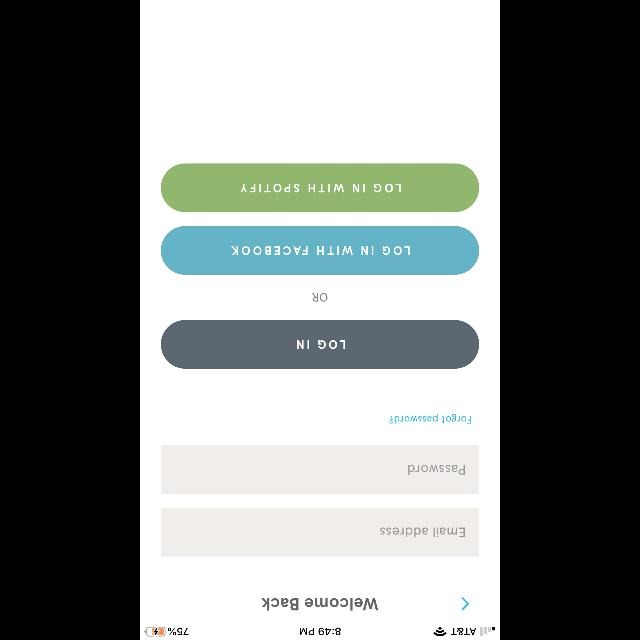icon: (462, 598, 468, 610)
input: (161, 446, 479, 494), (161, 508, 479, 556)
text: (262, 598, 378, 610), (380, 527, 464, 537), (389, 414, 471, 424), (408, 465, 464, 475), (312, 293, 328, 301)
textbutton: (161, 164, 479, 212), (161, 226, 479, 274), (161, 320, 479, 368)
uppertaskbar: (140, 626, 500, 640)
